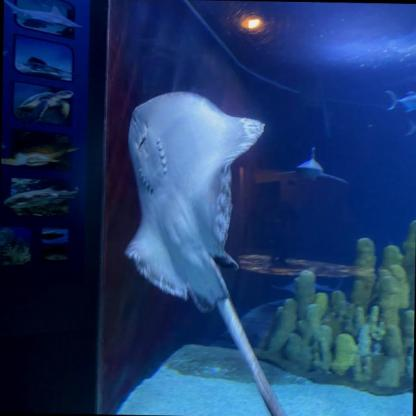fish: (382, 90, 416, 113), (403, 117, 415, 137)
shark: (273, 146, 350, 188)
stingray: (124, 87, 264, 314)
